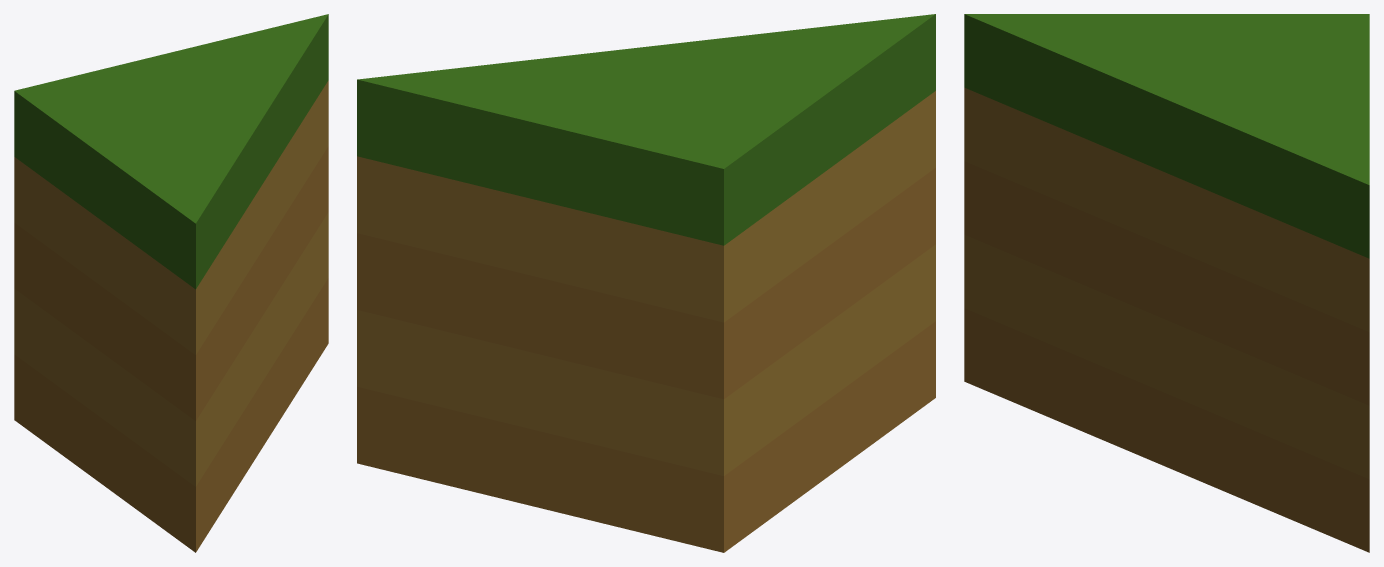
File: GrassTileHalf.fbx
3 views of the same model, side by side, from view 1: azimuth 30°, elevation 25°; view 2: azimuth 150°, elevation 25°; view 3: azimuth 270°, elevation 25° (orthographic). The views are drawn at different scales.
Visible parts, largest first — view 1: GrassTileHalf; view 2: GrassTileHalf; view 3: GrassTileHalf.
Boxes of the visible parts, x1,y1,x2,y2 form: GrassTileHalf: (14,14,328,552); GrassTileHalf: (357,14,935,552); GrassTileHalf: (964,14,1369,552).
Bounding box in the file's own units: 100 × 100 × 100.
